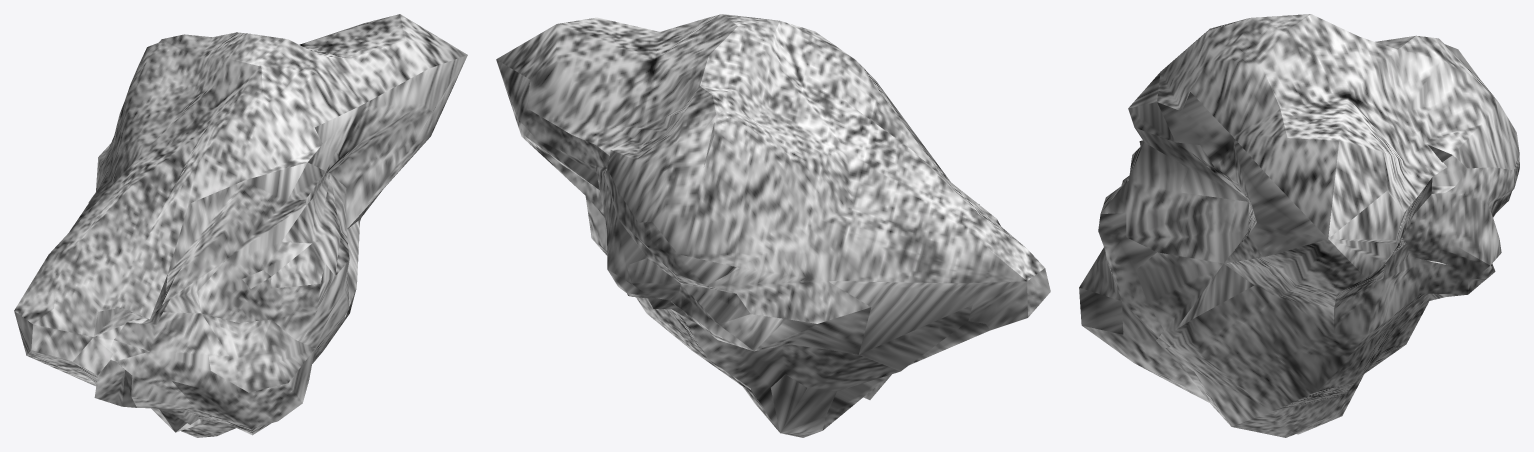
File: Rock_Asset_11.fbx
3 views of the same model, side by side, from view 1: azimuth 30°, elevation 25°; view 2: azimuth 150°, elevation 25°; view 3: azimuth 270°, elevation 25° (orthographic). The views are drawn at different scales.
Parts seen in each view (by area): view 1: Rock_Asset; view 2: Rock_Asset; view 3: Rock_Asset.
Boxes of the visible parts, box(x1,y1,x2,y2) form: Rock_Asset: box(14, 14, 467, 437); Rock_Asset: box(496, 14, 1050, 437); Rock_Asset: box(1079, 14, 1519, 437).
Bounding box in the file's own units: 2.64 × 2.01 × 1.77.
Materials: 1 (1 with a texture image).
